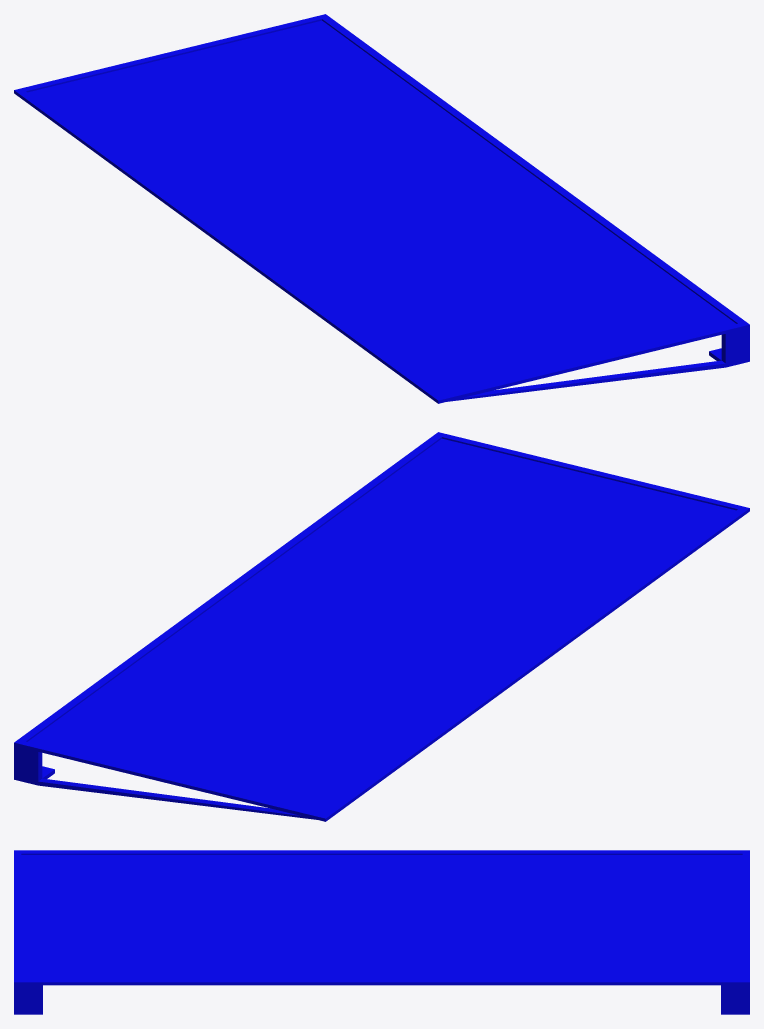
The model's file is sub_WireNettingStool001.fbx.
3 renders of one model, top to bottom at view 1: azimuth 30°, elevation 25°; view 2: azimuth 150°, elevation 25°; view 3: azimuth 270°, elevation 25°, orthographic. The views are drawn at different scales.
Parts seen in each view (by area): view 1: sub_WireNettingStool001; view 2: sub_WireNettingStool001; view 3: sub_WireNettingStool001.
Boxes of the visible parts, x1=… form: sub_WireNettingStool001: x1=14, y1=14, x2=749, y2=403; sub_WireNettingStool001: x1=14, y1=432, x2=749, y2=821; sub_WireNettingStool001: x1=14, y1=850, x2=749, y2=1014.
Bounding box in the file's own units: 6.28 × 0.714 × 14.81.
